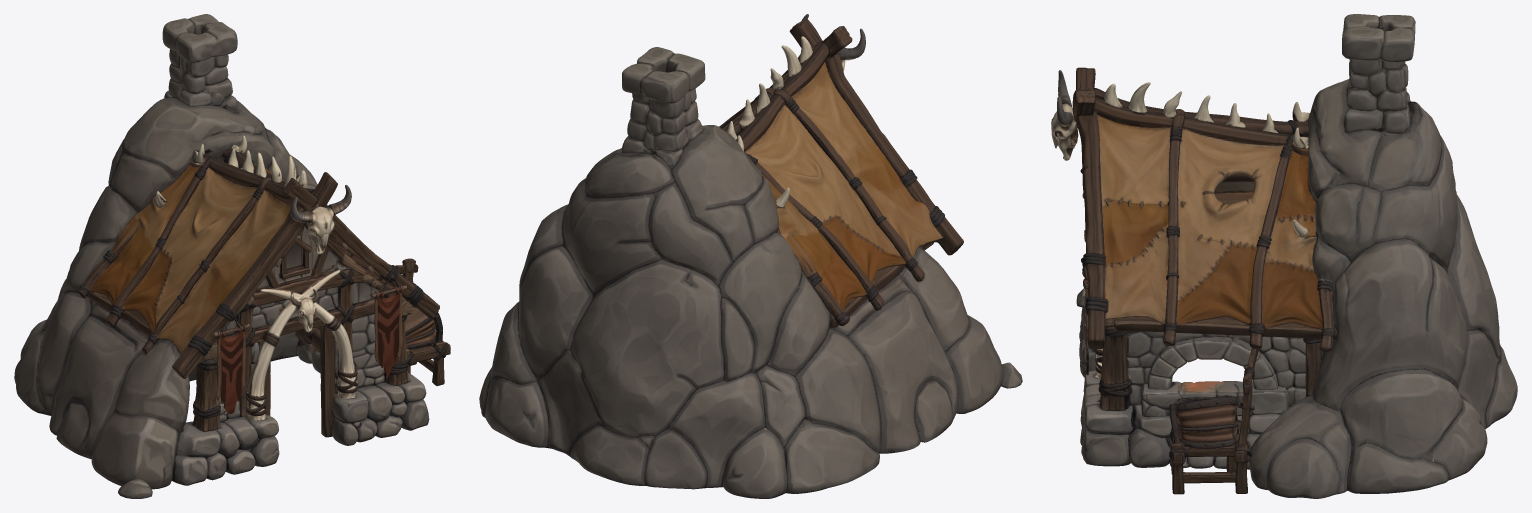
Rendered from TrollWarForge_300k.glb.
The picture shows the model from 3 angles, left to right: view 1: azimuth 30°, elevation 25°; view 2: azimuth 150°, elevation 25°; view 3: azimuth 270°, elevation 25°; orthographic projection. The views are drawn at different scales.
Parts seen in each view (by area): view 1: Mesh_0; view 2: Mesh_0; view 3: Mesh_0.
Boxes of the visible parts, x1,y1,x2,y2 form: Mesh_0: (14, 14, 450, 498); Mesh_0: (479, 14, 1022, 498); Mesh_0: (1051, 14, 1517, 498).
Size of the model in its own units: 1.9 by 1.65 by 1.82.
Materials: 1 (1 with a texture image).
